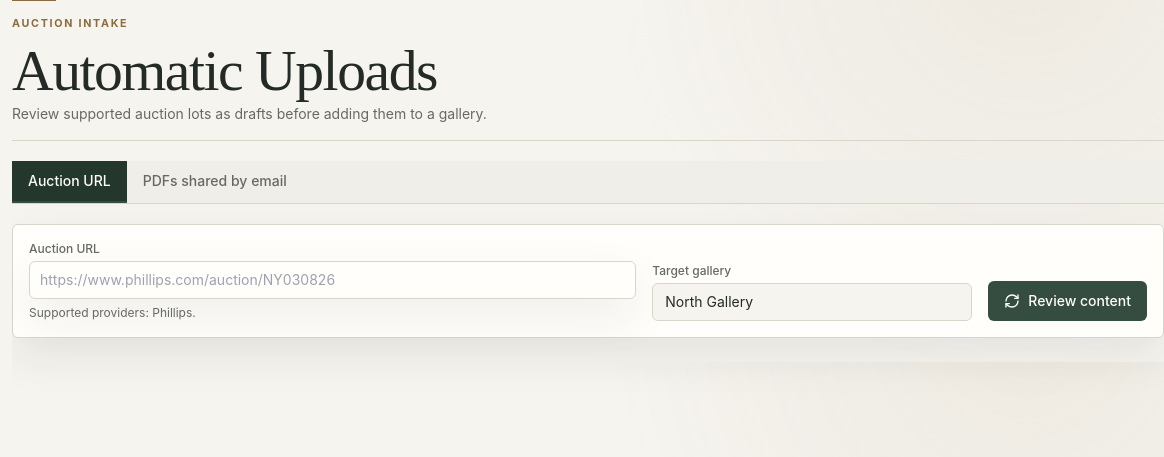
Test: AutomaticUploadsPage › rejects unsupported preflight URL https://auctions.phillips.com/auction/NY030826
The image size is (1164, 457).
Type "https://auctions.phillips.com/auction/NY030826" into the field labelled "Auction URL" at (333, 280), box [29,261,636,299]
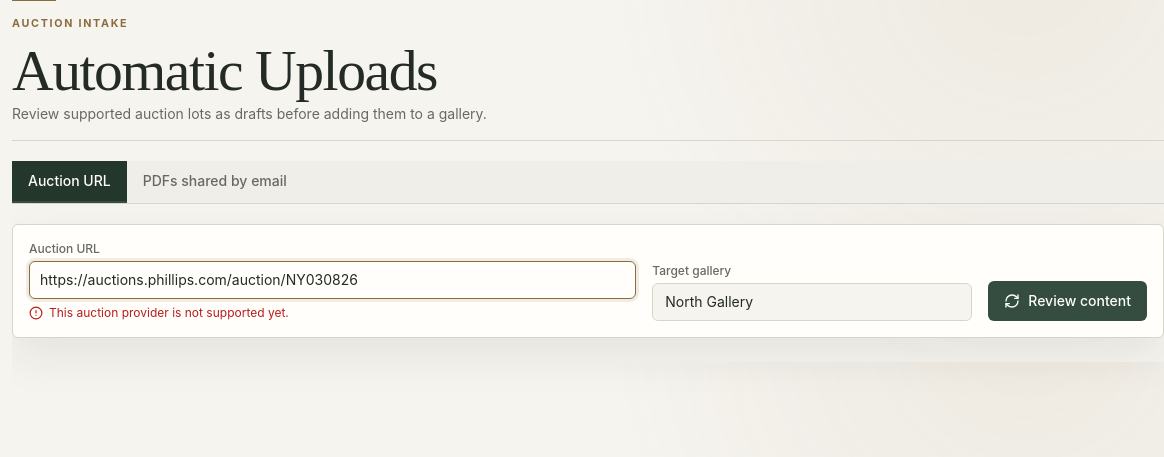
Expected: the button "Review content" is disabled, [988,281,1147,321]
Now the text "This auction provider is not supported yet." is shown, box [29,305,289,320]
